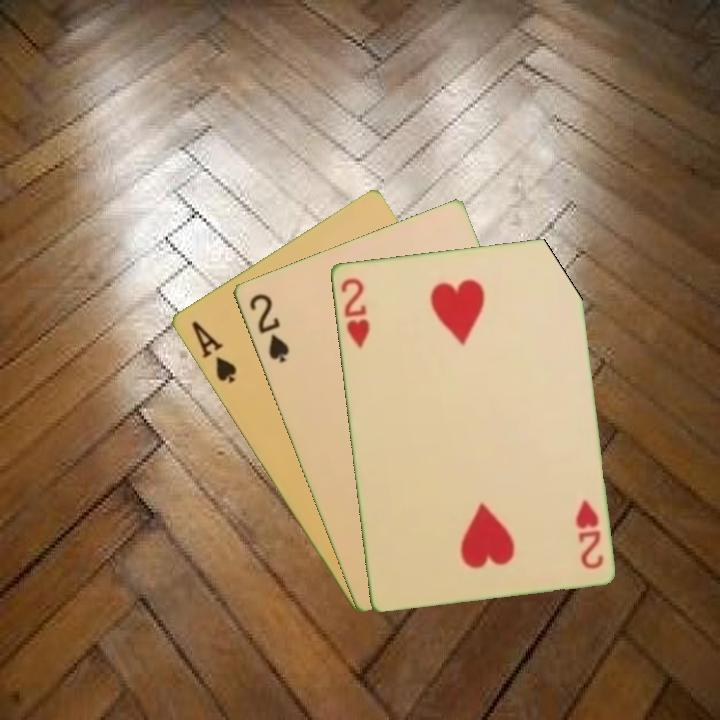2h: (336, 274, 372, 350), (571, 496, 606, 572)
2s: (245, 289, 292, 366)
As: (187, 317, 239, 387)
